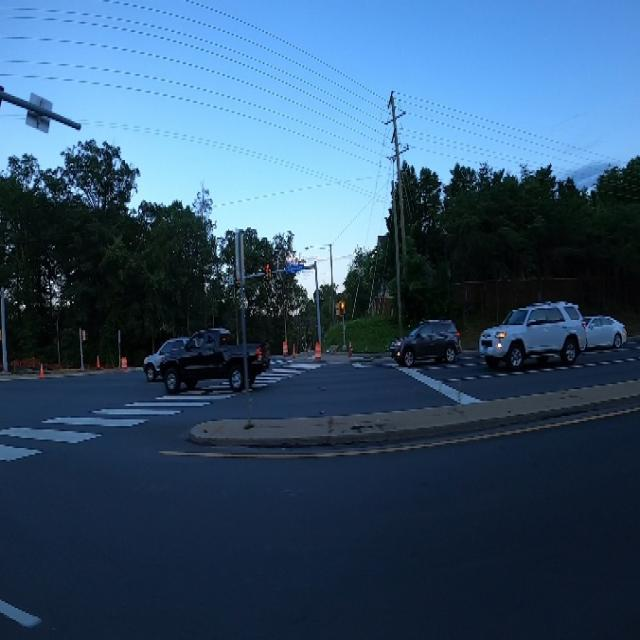cars: (472, 297, 584, 380), (165, 325, 270, 400), (394, 311, 463, 373), (138, 327, 198, 386), (573, 309, 627, 350)
